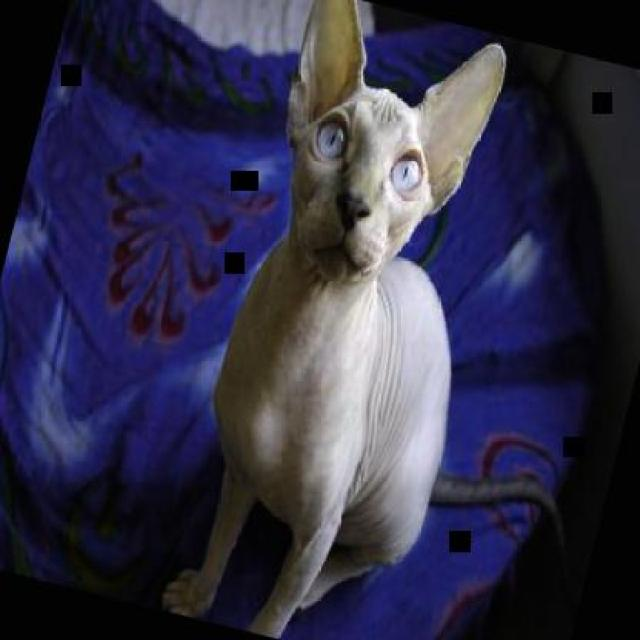cat: (155, 0, 638, 638)
